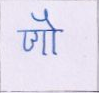au_matra: (38, 11, 63, 54)
